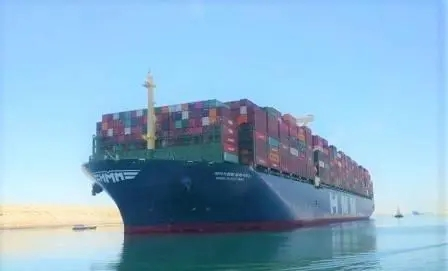Cargoship: (77, 88, 378, 238)
